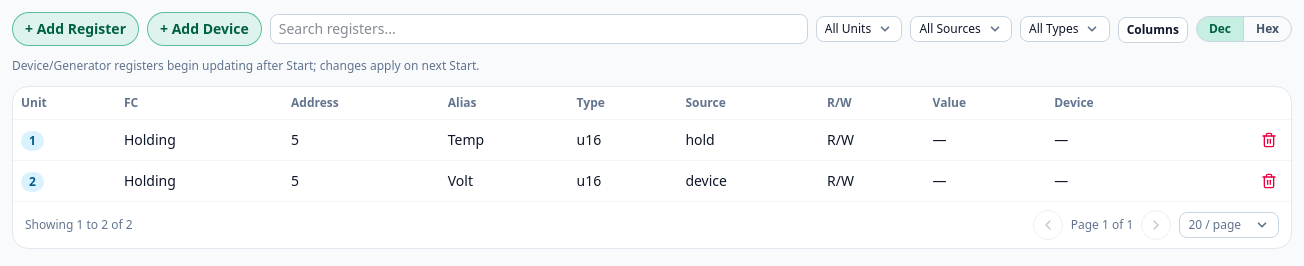
Scenario: RegistersTab › renders all rows then filters by search
Type "volt" into the field with placeholder "Search registers..." at (539, 29), box top-left (270, 14), bottom-right (808, 44)
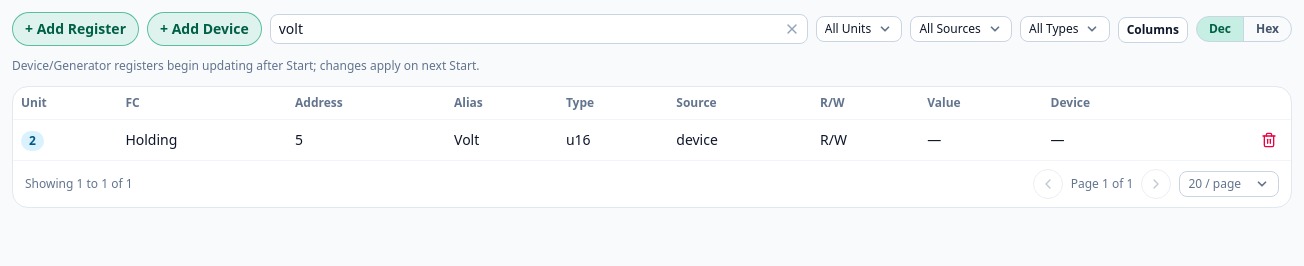
Expected: the text "Volt" is shown, top-left (446, 120), bottom-right (558, 160)
Now the text "Temp" is gone
